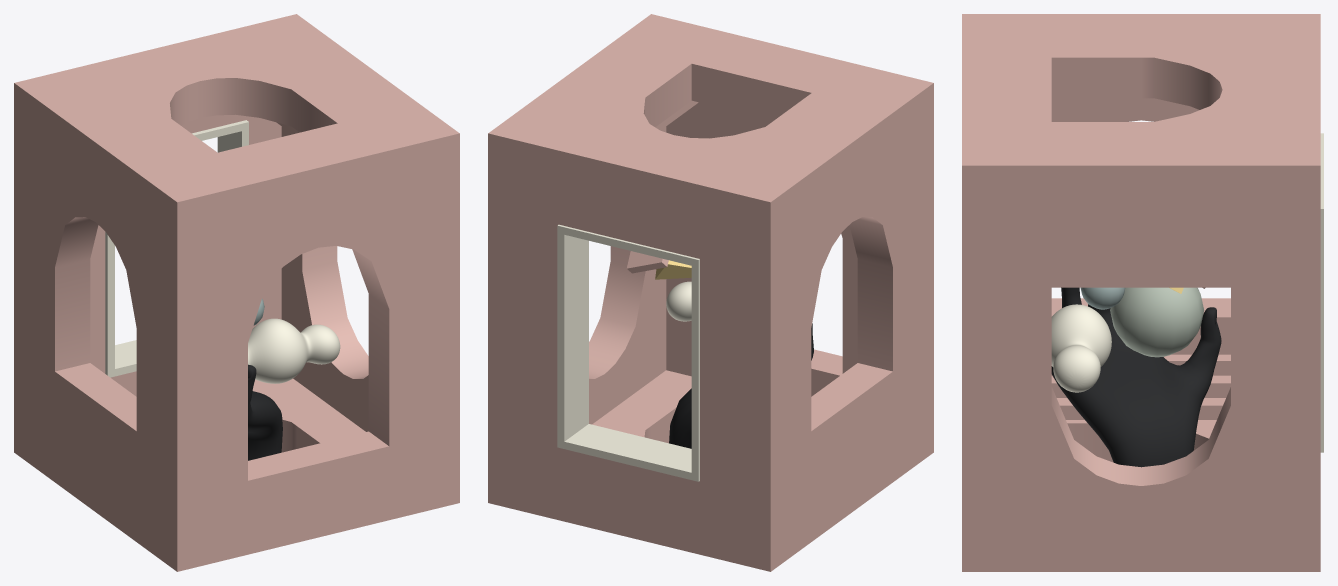
File: Owe Ragnar Martirez Room.glb
The picture shows the model from 3 angles, left to right: view 1: azimuth 30°, elevation 25°; view 2: azimuth 150°, elevation 25°; view 3: azimuth 270°, elevation 25°; orthographic projection. The views are drawn at different scales.
Visible parts, largest first — view 1: room, Sphere.002, window, Hand; view 2: room, window, Hand, Sphere.002, Cube; view 3: room, Hand, Sphere, Sphere.002, stair, window, Sphere.001.
Boxes of the visible parts, box(x1,y1,x2,y2) form: room: box(14, 14, 459, 571); Sphere.002: box(248, 318, 340, 383); window: box(105, 120, 248, 377); Hand: box(248, 364, 282, 460); room: box(488, 14, 933, 571); window: box(557, 224, 699, 481); Hand: box(669, 323, 813, 448); Sphere.002: box(666, 281, 691, 321); Cube: box(626, 251, 668, 273); room: box(962, 14, 1320, 571); Hand: box(1051, 287, 1221, 467); Sphere: box(1110, 287, 1204, 357); Sphere.002: box(1051, 304, 1111, 392); stair: box(1051, 354, 1230, 419); window: box(1320, 133, 1323, 452); Sphere.001: box(1080, 287, 1125, 309).
Bounding box in the file's own units: 4 × 5 × 4.04.
